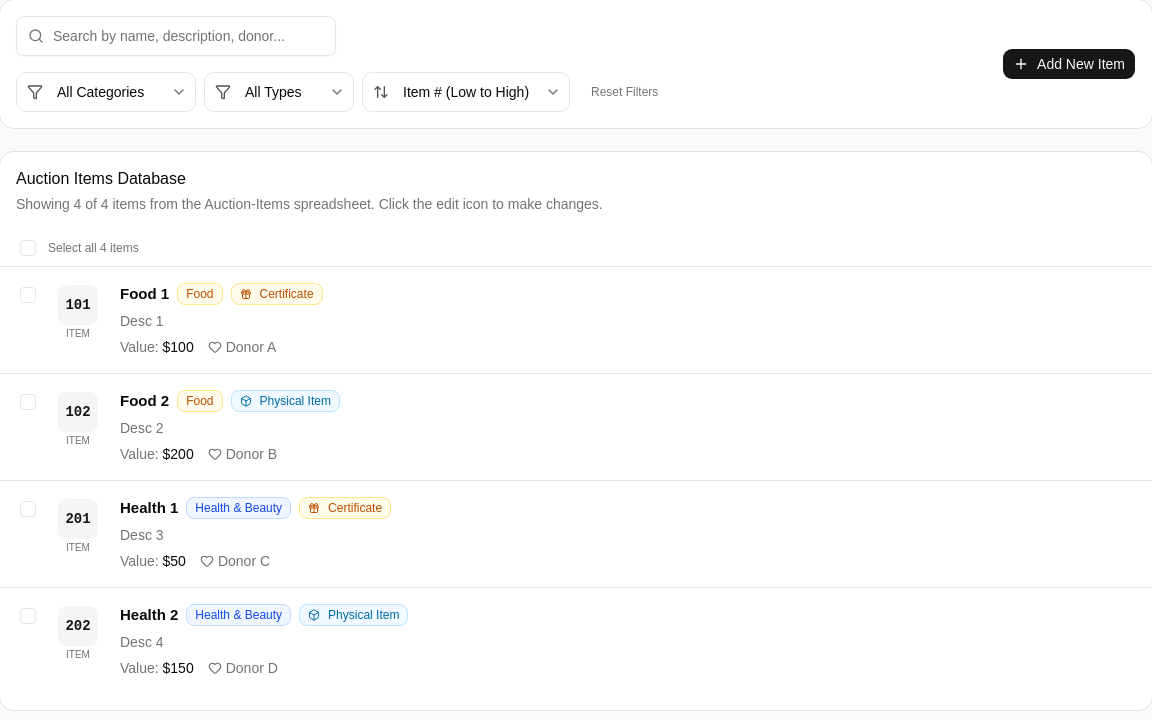
AuctionItemsTab - Sort and Filter › Type filter - selecting 'Certificate' shows only Certificate items
Click the dropdown named "Filter by item type".
click(279, 92)  # box [204, 72, 354, 112]
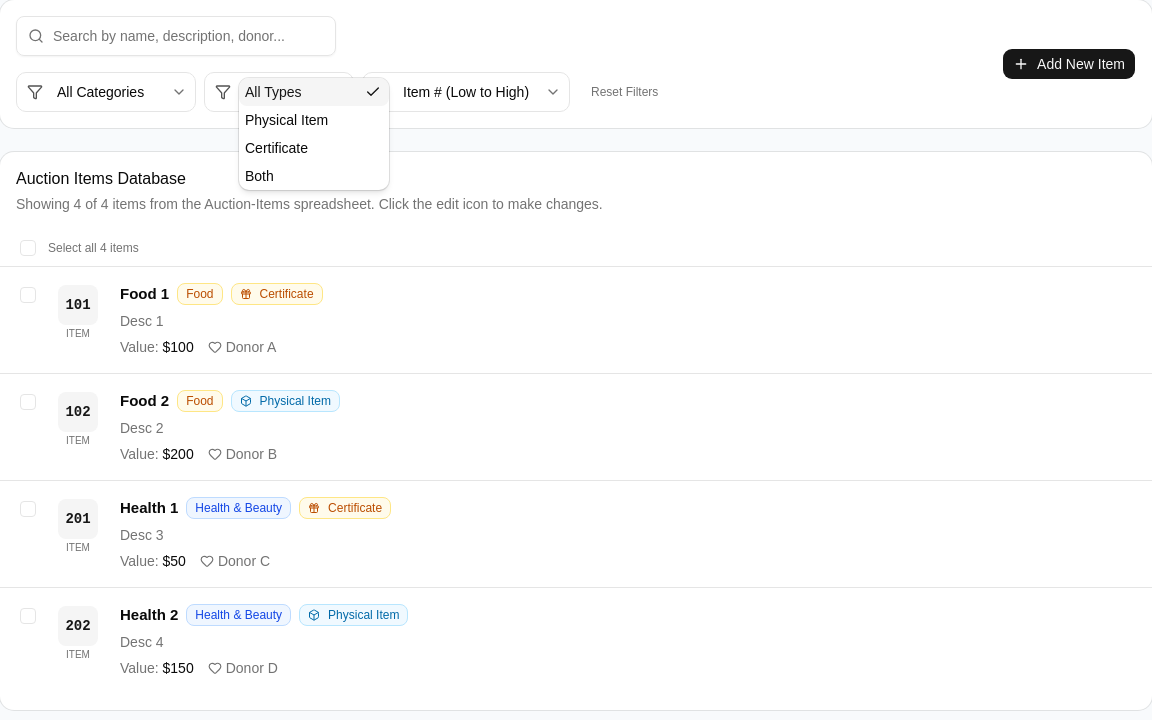
Click the option "Certificate".
click(276, 148)  # box [245, 140, 308, 156]
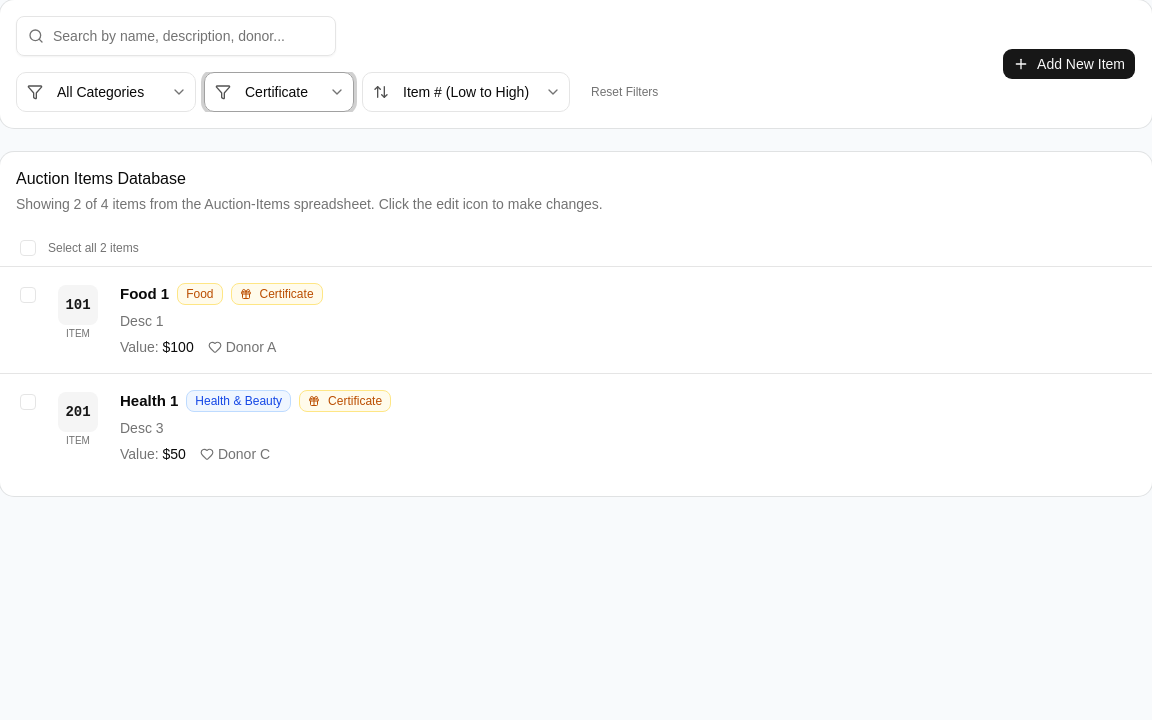
Expected: the text "Food 1" is shown, [120, 283, 169, 305]
Result: the text "Food 2" is gone
Result: the text "Health 2" is gone
